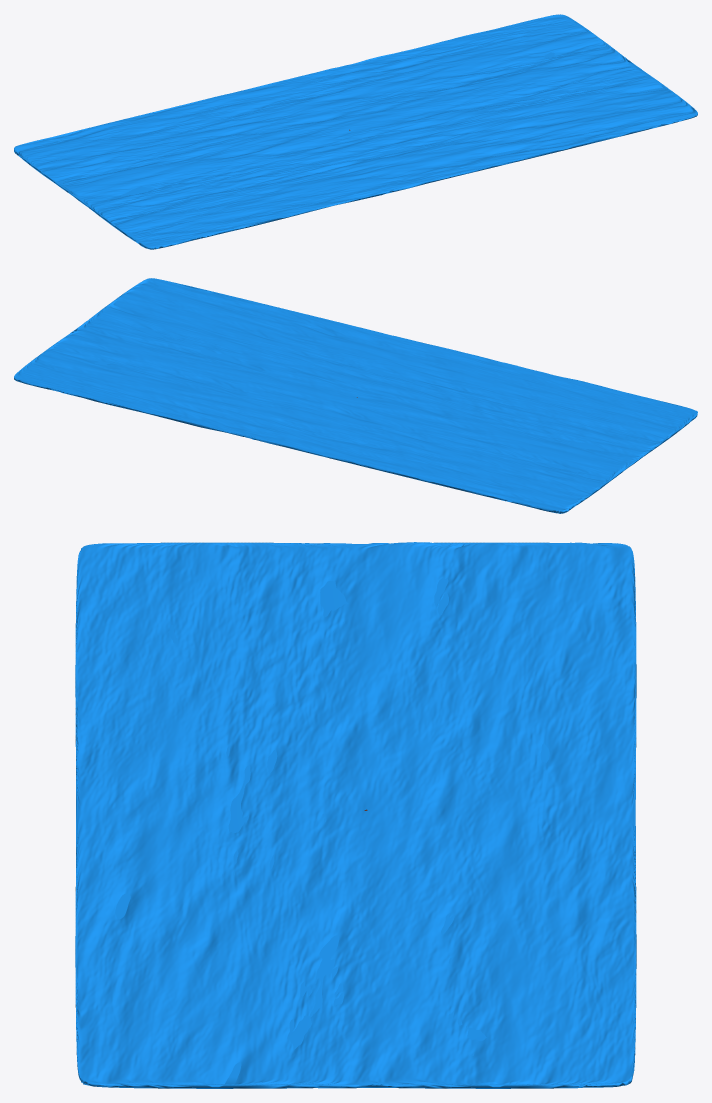
The model's file is Scene_1Tierra.gltf.
The picture shows the model from 3 angles, top to bottom: view 1: azimuth 30°, elevation 25°; view 2: azimuth 150°, elevation 25°; view 3: azimuth 270°, elevation 25°; orthographic projection. The views are drawn at different scales.
Parts seen in each view (by area): view 1: Agua; view 2: Agua; view 3: Agua.
Part boxes in pixels (x1,y1,x2,y2): Agua: [14, 14, 697, 249]; Agua: [14, 278, 697, 513]; Agua: [75, 542, 636, 1088].
Size of the model in its own units: 1050 by 6.52 by 458.
